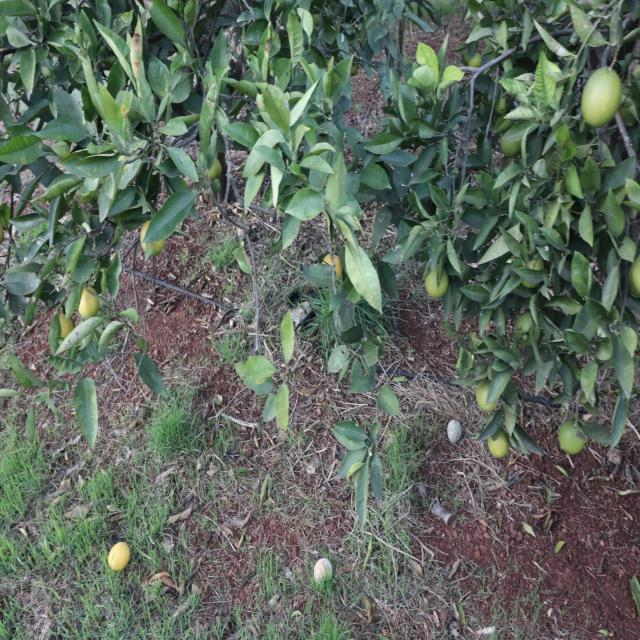Jeruk Belum Matang: (582, 68, 622, 129), (559, 420, 586, 453), (424, 268, 450, 300), (140, 220, 163, 254), (108, 540, 132, 572), (78, 288, 100, 321), (516, 312, 538, 343), (488, 428, 510, 458), (56, 311, 74, 344), (478, 381, 497, 412), (501, 131, 522, 158), (210, 156, 222, 180), (496, 96, 508, 116), (468, 52, 482, 68)
